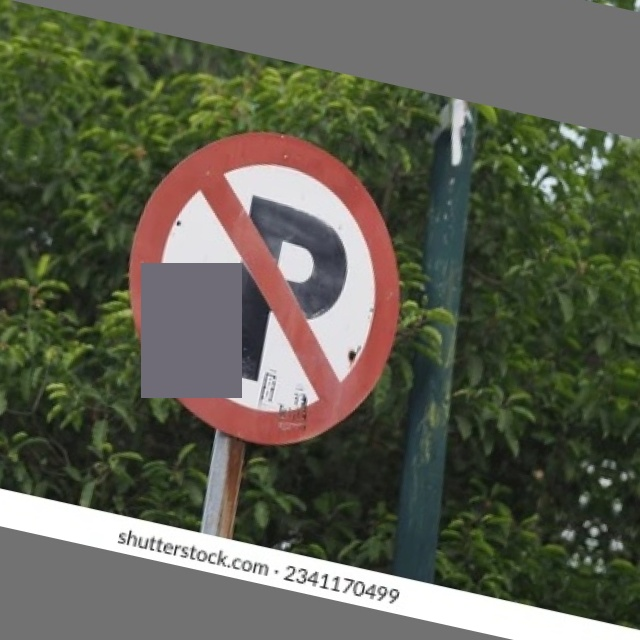No_Parking: (100, 104, 430, 463)
